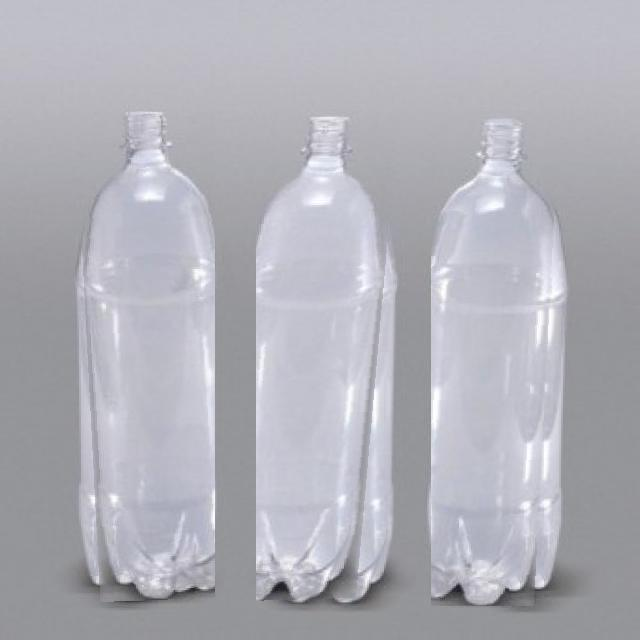plastic bottle: (256, 117, 399, 602), (75, 112, 215, 602), (431, 120, 559, 606)
